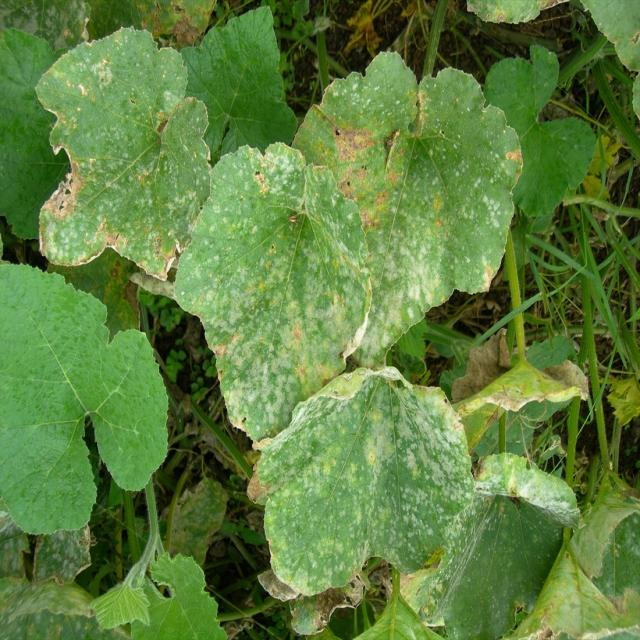Powdery Mildew: (172, 140, 372, 443), (255, 364, 476, 598)
